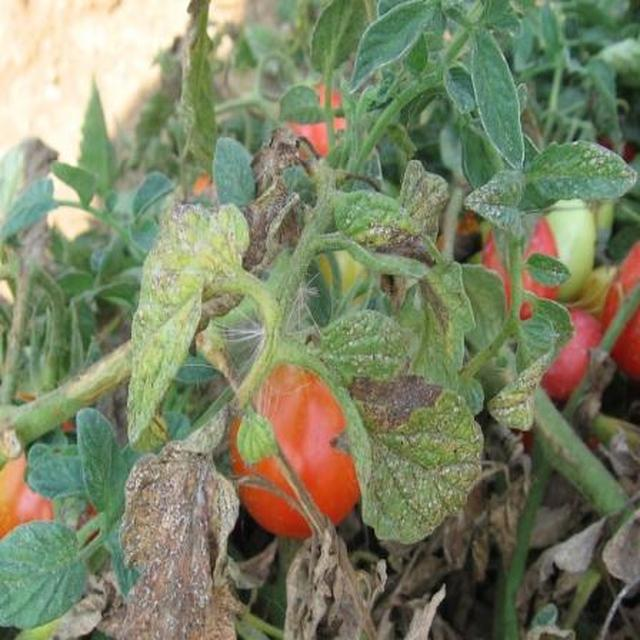Spider Mites Leaf: (156, 90, 640, 609)
